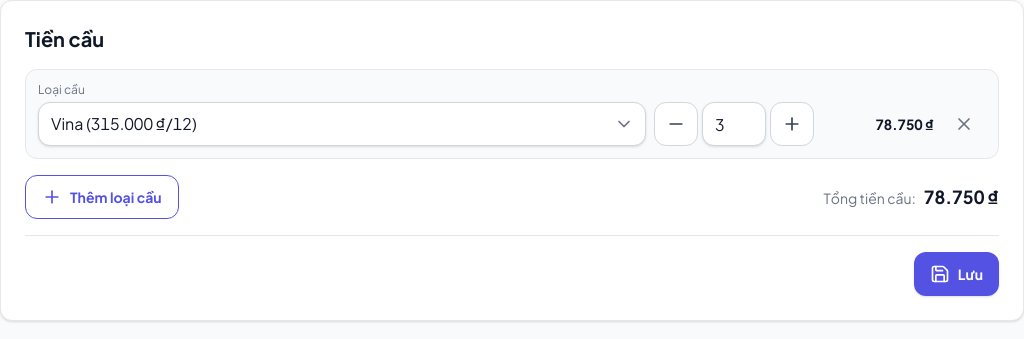
Scenario: ShuttleUsageEditor › increments the count with the plus stepper
Click the button with test id "inc-0". click: (792, 124)
box: [770,102,814,146]
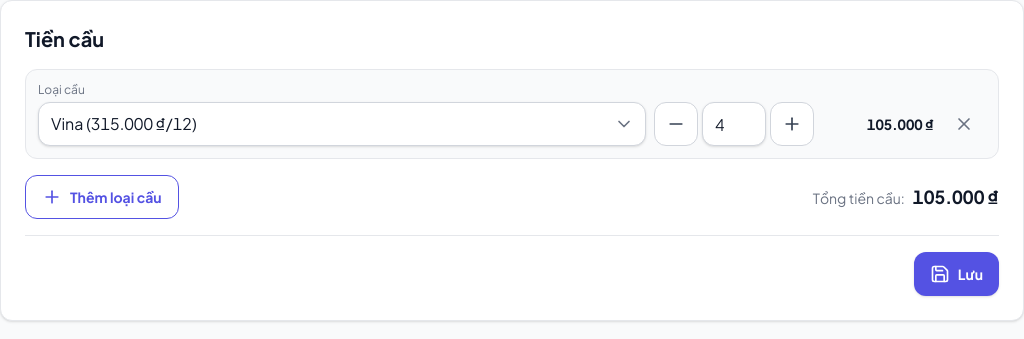
Result: the text with test id "shuttle-total" shows "105.000" at [913,185,999,208]
